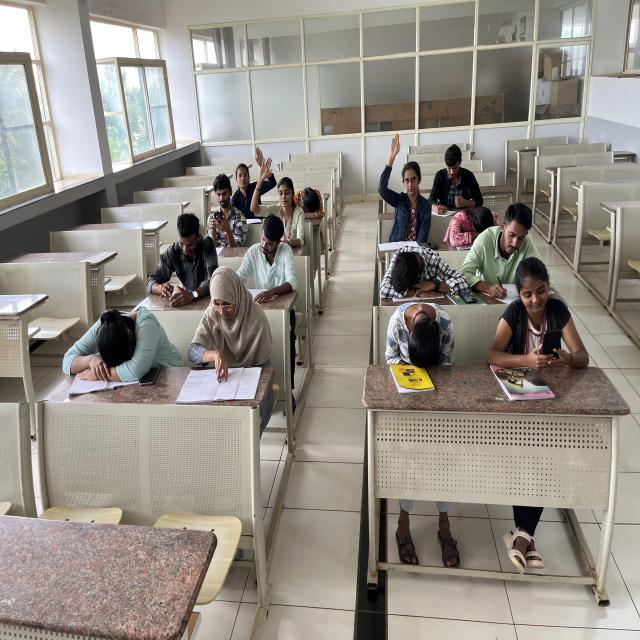Hand Rising: (375, 129, 431, 231), (253, 156, 304, 234), (230, 147, 275, 211)
Reading: (242, 219, 302, 305)
Sleeping: (57, 301, 163, 372), (381, 304, 460, 366), (378, 245, 462, 300), (447, 202, 502, 245), (294, 181, 329, 218)
Using Phone: (494, 254, 595, 367), (146, 212, 222, 306), (202, 172, 248, 242)
Writing: (470, 202, 561, 303), (429, 145, 484, 218)
